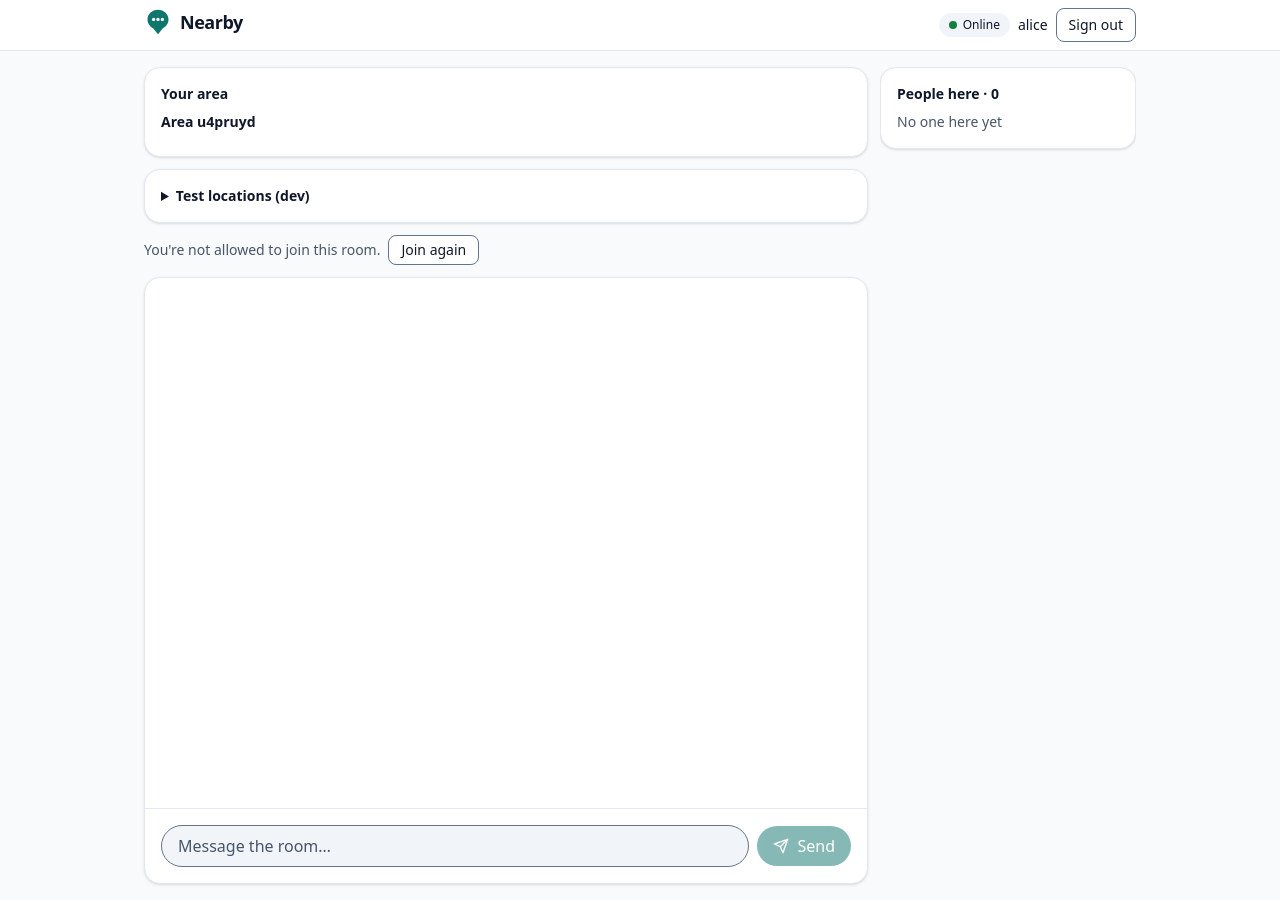
it: chat flow › area rooms › "Join again" sits outside the status region, retries once and hands focus to the status line
The image size is (1280, 900).
expect the button "Sign out" is shown: met, box [1056,8,1136,42]
What coordinates should you click on to do the following:
click the button "Join again"
I would click on:
 (434, 250)
Its box is [388,235,479,265].
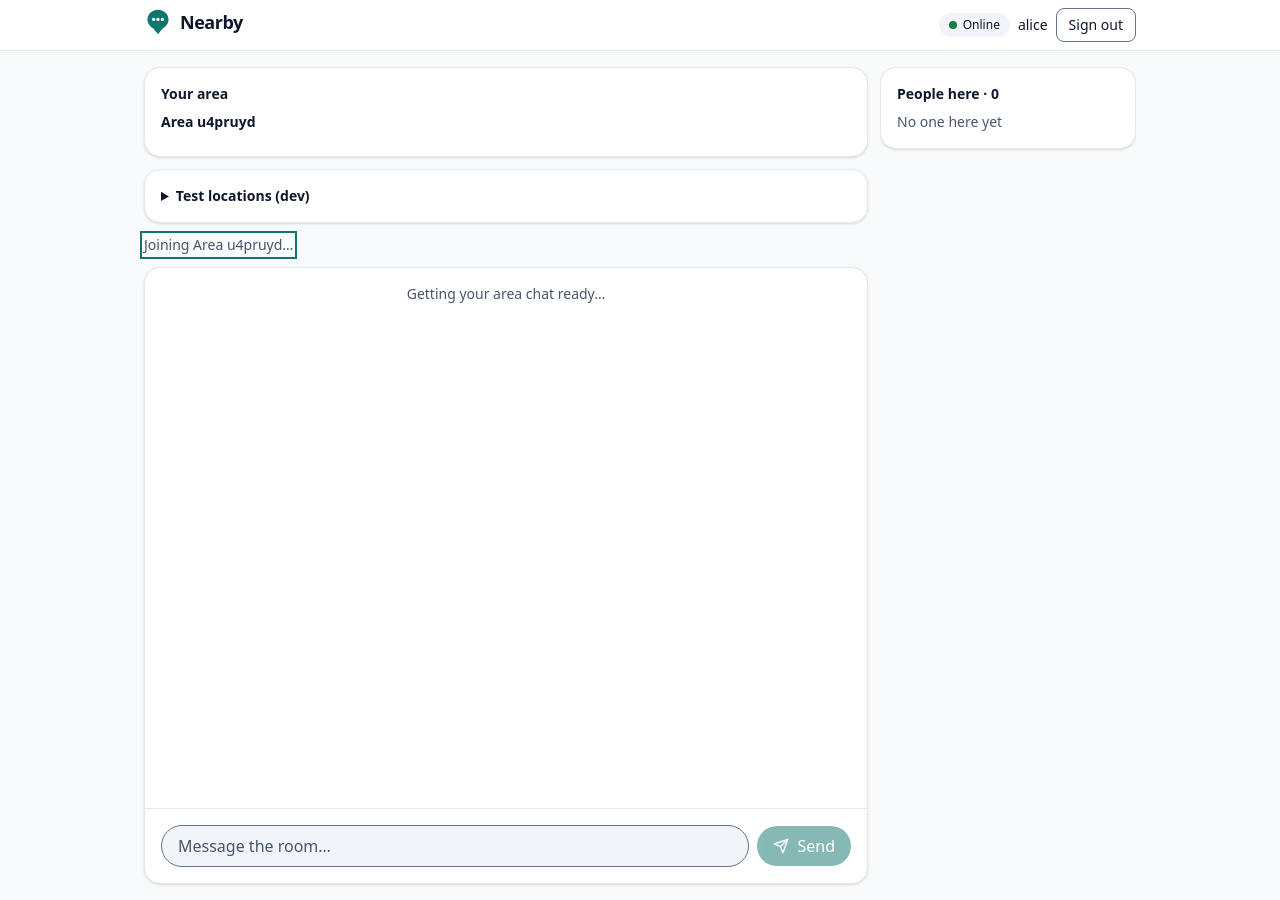
expect the button "Join again" is gone: met
